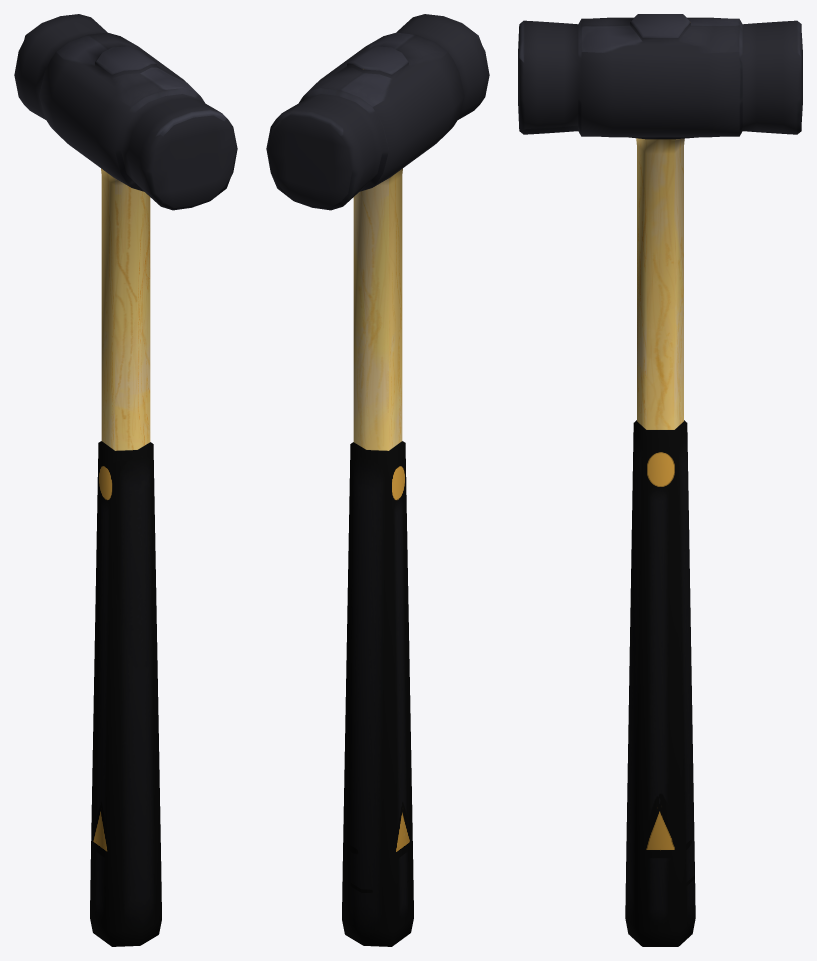
The model's file is 슬레지헤머.fbx.
3 views of the same model, side by side, from view 1: azimuth 30°, elevation 25°; view 2: azimuth 150°, elevation 25°; view 3: azimuth 270°, elevation 25° (orthographic). The views are drawn at different scales.
Parts seen in each view (by area): view 1: SledgeHammer; view 2: SledgeHammer; view 3: SledgeHammer.
Part boxes in pixels (bbox=[...]): SledgeHammer: bbox=[14, 14, 237, 946]; SledgeHammer: bbox=[266, 14, 489, 946]; SledgeHammer: bbox=[518, 14, 802, 946].
Bounding box in the file's own units: 10.83 × 85.4 × 24.09.
